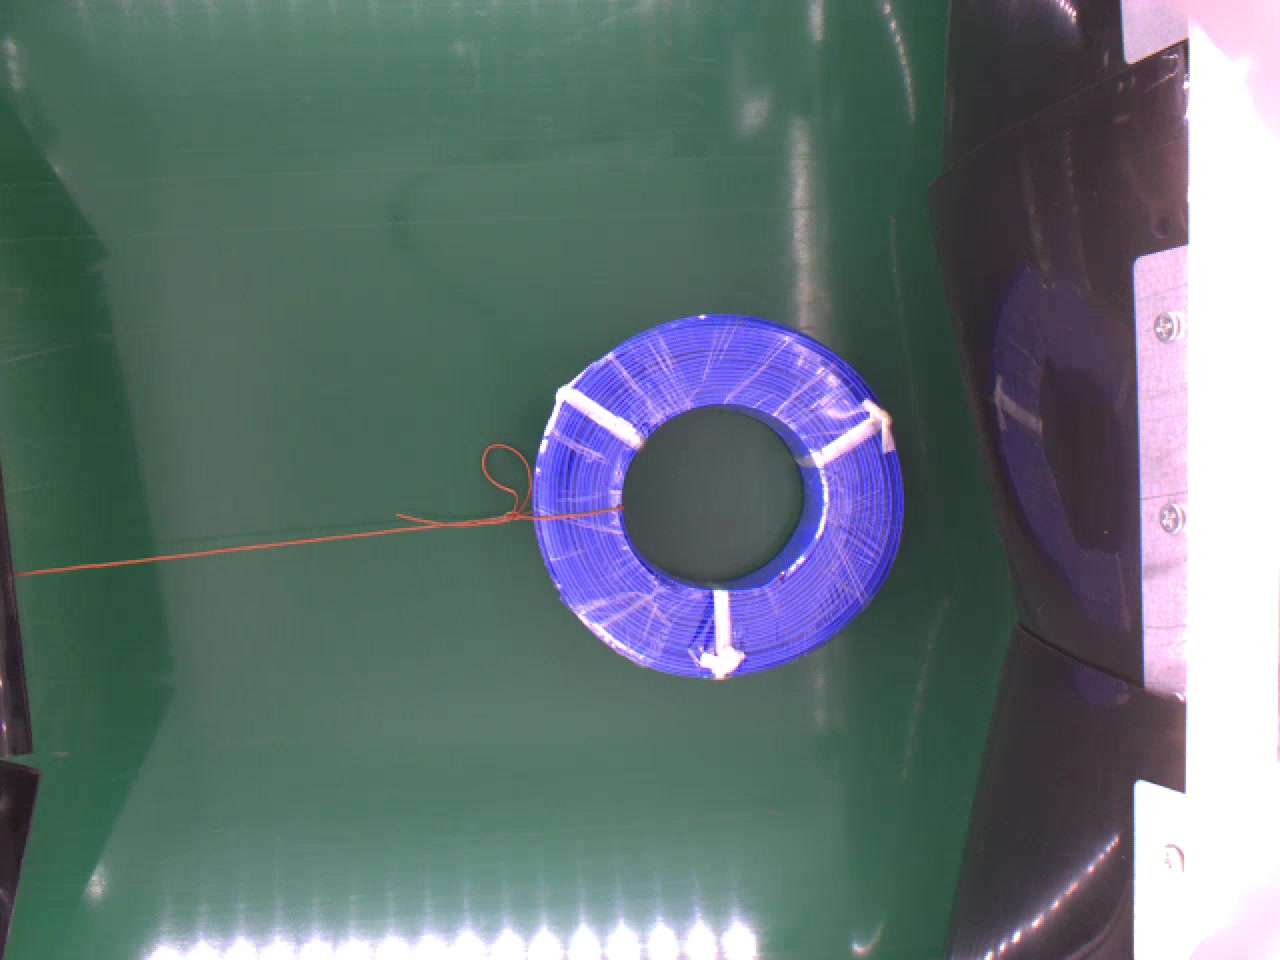blue: (532, 308, 904, 675)
